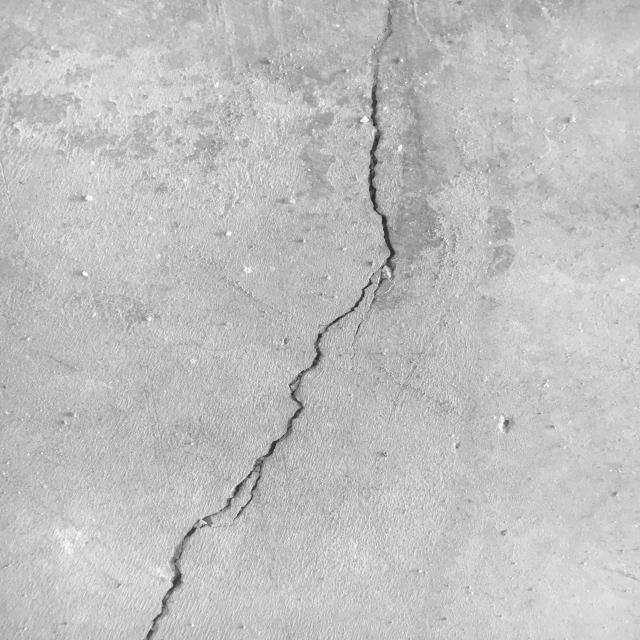SurfaceCrack: (113, 1, 434, 640)
